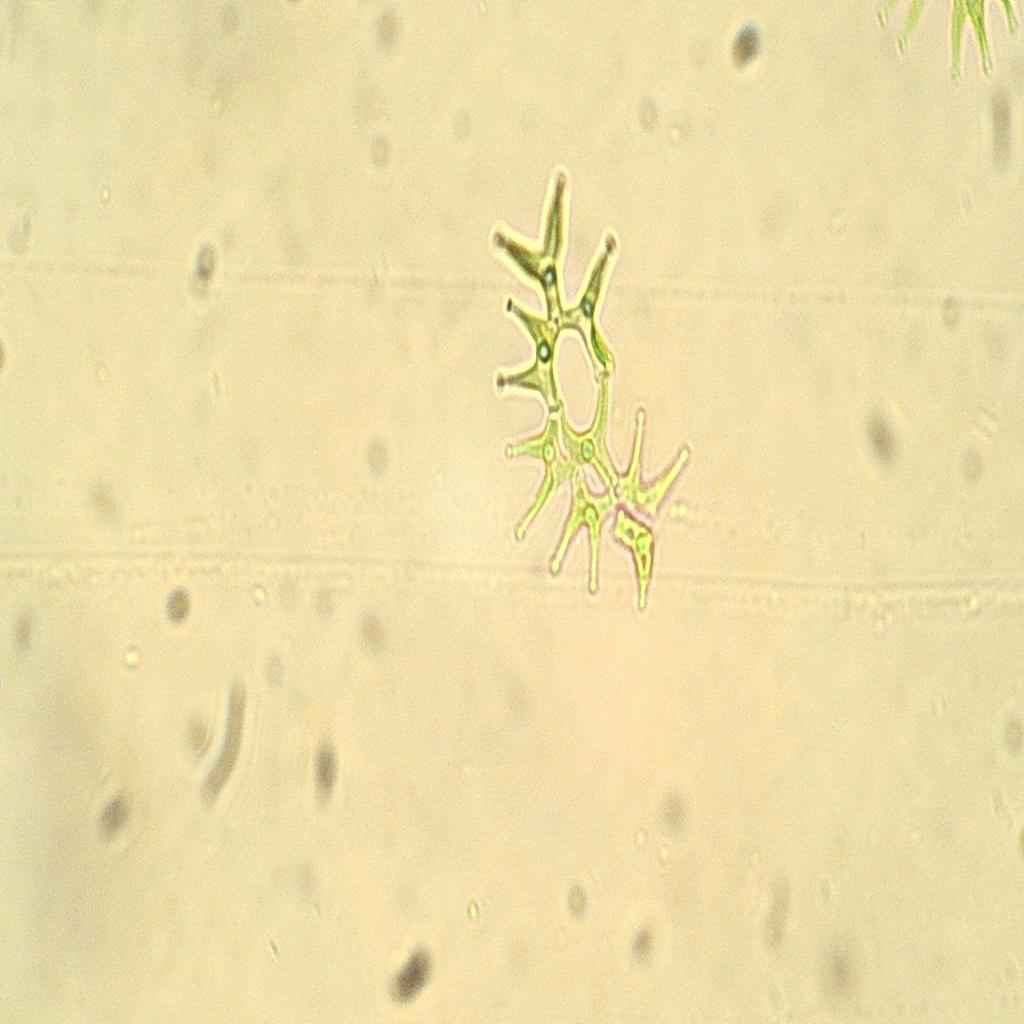Pediastrum_1TH: (469, 159, 703, 642)
